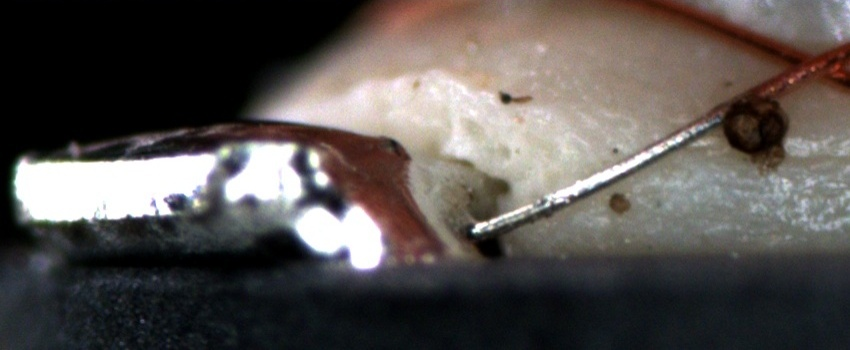CL: (765, 37, 844, 90)
DL: (661, 134, 850, 192)
TS: (473, 106, 723, 242)
TTCW: (474, 73, 806, 236)
